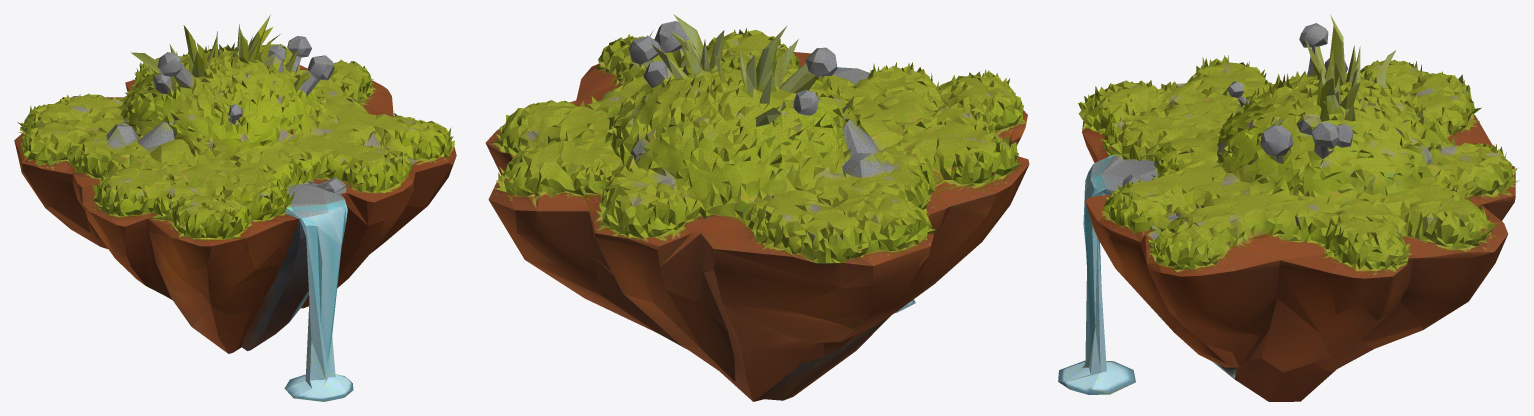
File: bg-island.glb
3 views of the same model, side by side, from view 1: azimuth 30°, elevation 25°; view 2: azimuth 150°, elevation 25°; view 3: azimuth 270°, elevation 25° (orthographic). The views are drawn at different scales.
Bounding box in the file's own units: 1.89 × 1.63 × 1.86.
Materials: 1 (1 with a texture image).
